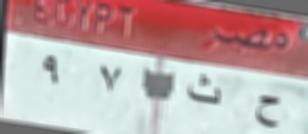7: (99, 63, 125, 95)
7aa: (252, 85, 283, 134)
9: (36, 51, 63, 91)
thaa: (186, 73, 227, 111)
